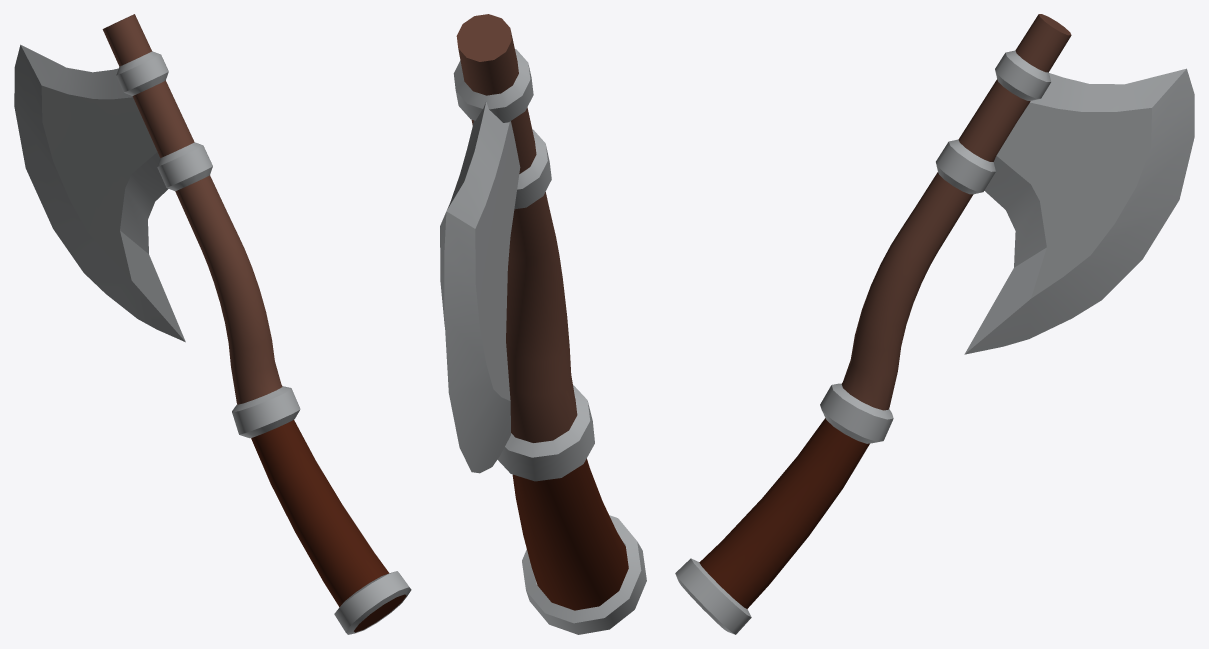
Rendered from bs-axe.fbx.
3 renders of one model, left to right at view 1: azimuth 30°, elevation 25°; view 2: azimuth 150°, elevation 25°; view 3: azimuth 270°, elevation 25°, orthographic. The views are drawn at different scales.
Parts seen in each view (by area): view 1: metal_base_low; view 2: metal_base_low; view 3: metal_base_low.
Boxes of the visible parts, x1,y1,x2,y2 form: metal_base_low: (14,14,411,634); metal_base_low: (440,14,646,634); metal_base_low: (675,14,1194,634).
Bounding box in the file's own units: 44.69 × 134 × 111.
